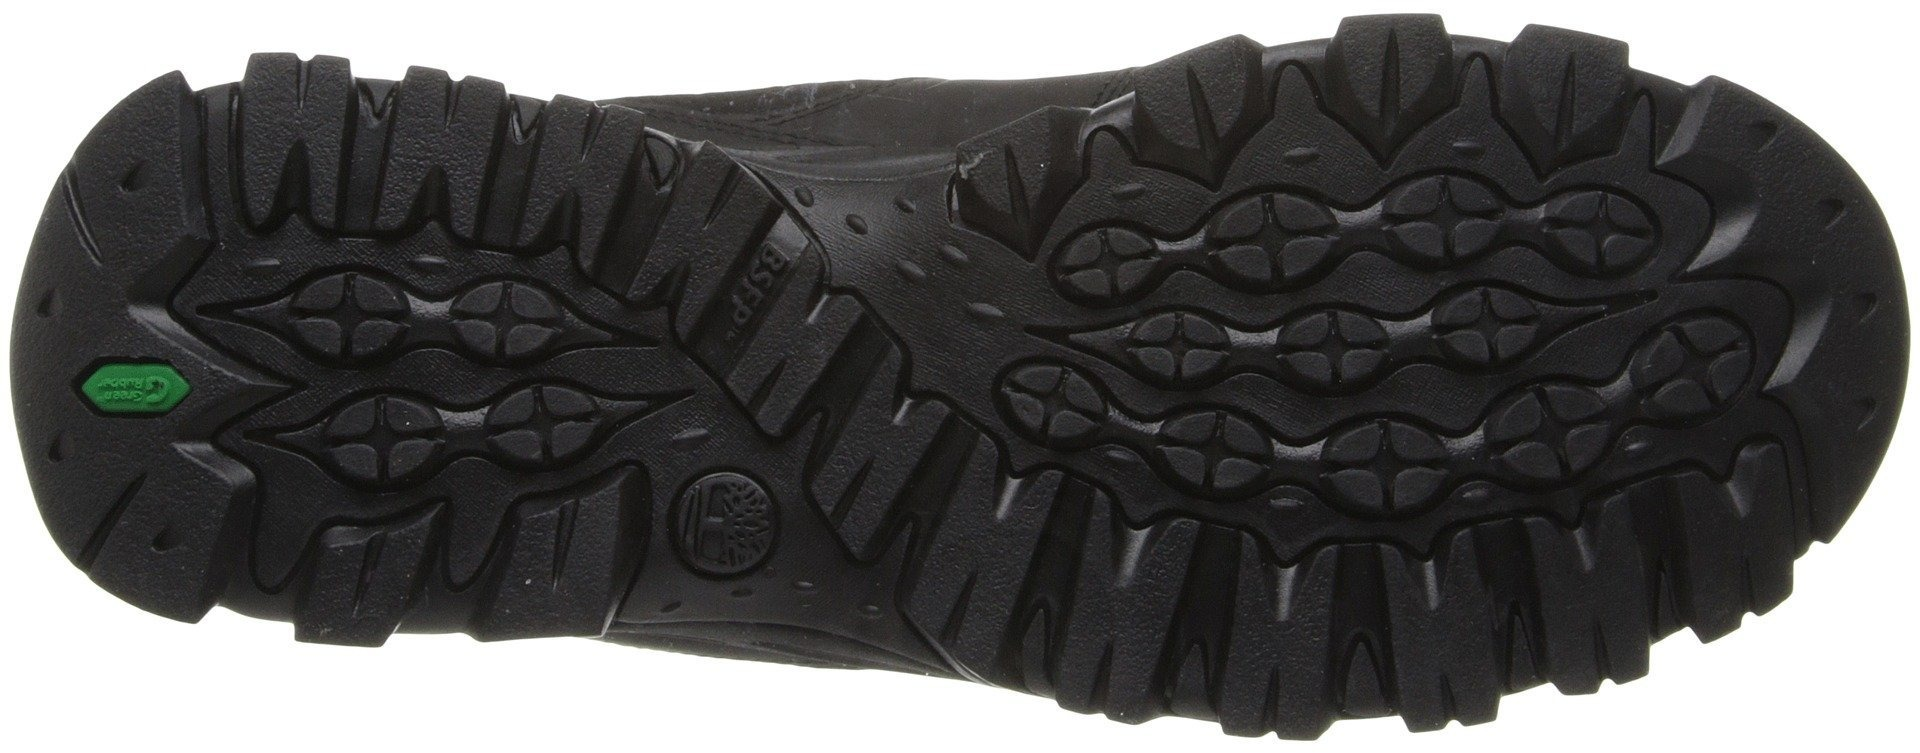bowtie: (889, 420, 1211, 736), (1513, 424, 1799, 731), (220, 29, 511, 268)
chevron: (1243, 47, 1353, 164)
circle: (282, 242, 621, 473), (1442, 148, 1676, 367), (650, 459, 790, 598), (1273, 291, 1420, 413), (1030, 206, 1176, 321)
line: (650, 459, 790, 598)
polygon: (60, 339, 196, 430)
star: (282, 242, 621, 473), (1442, 148, 1676, 367), (1273, 291, 1420, 413), (1030, 206, 1176, 321)
text: (60, 339, 196, 430), (722, 211, 795, 345)
triangle: (889, 420, 1211, 736), (1513, 424, 1799, 731), (282, 242, 621, 473), (1442, 148, 1676, 367), (1273, 291, 1420, 413), (1030, 206, 1176, 321)
